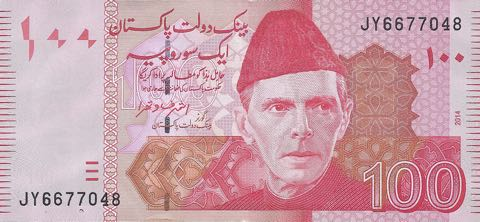100 rupee: (7, 4, 476, 214)
